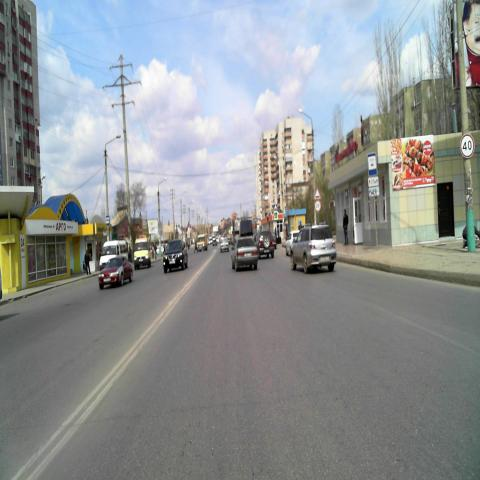7_5: (368, 152, 377, 175)
